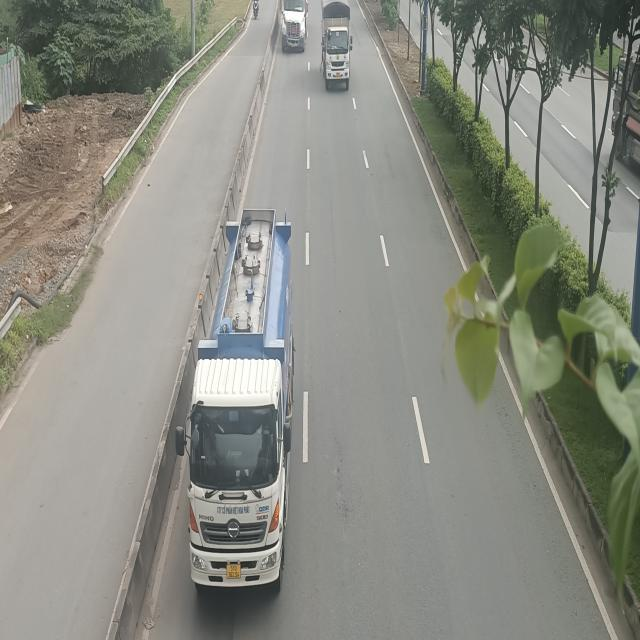container: (180, 210, 300, 598), (279, 0, 308, 51)
truck: (322, 1, 354, 92)
